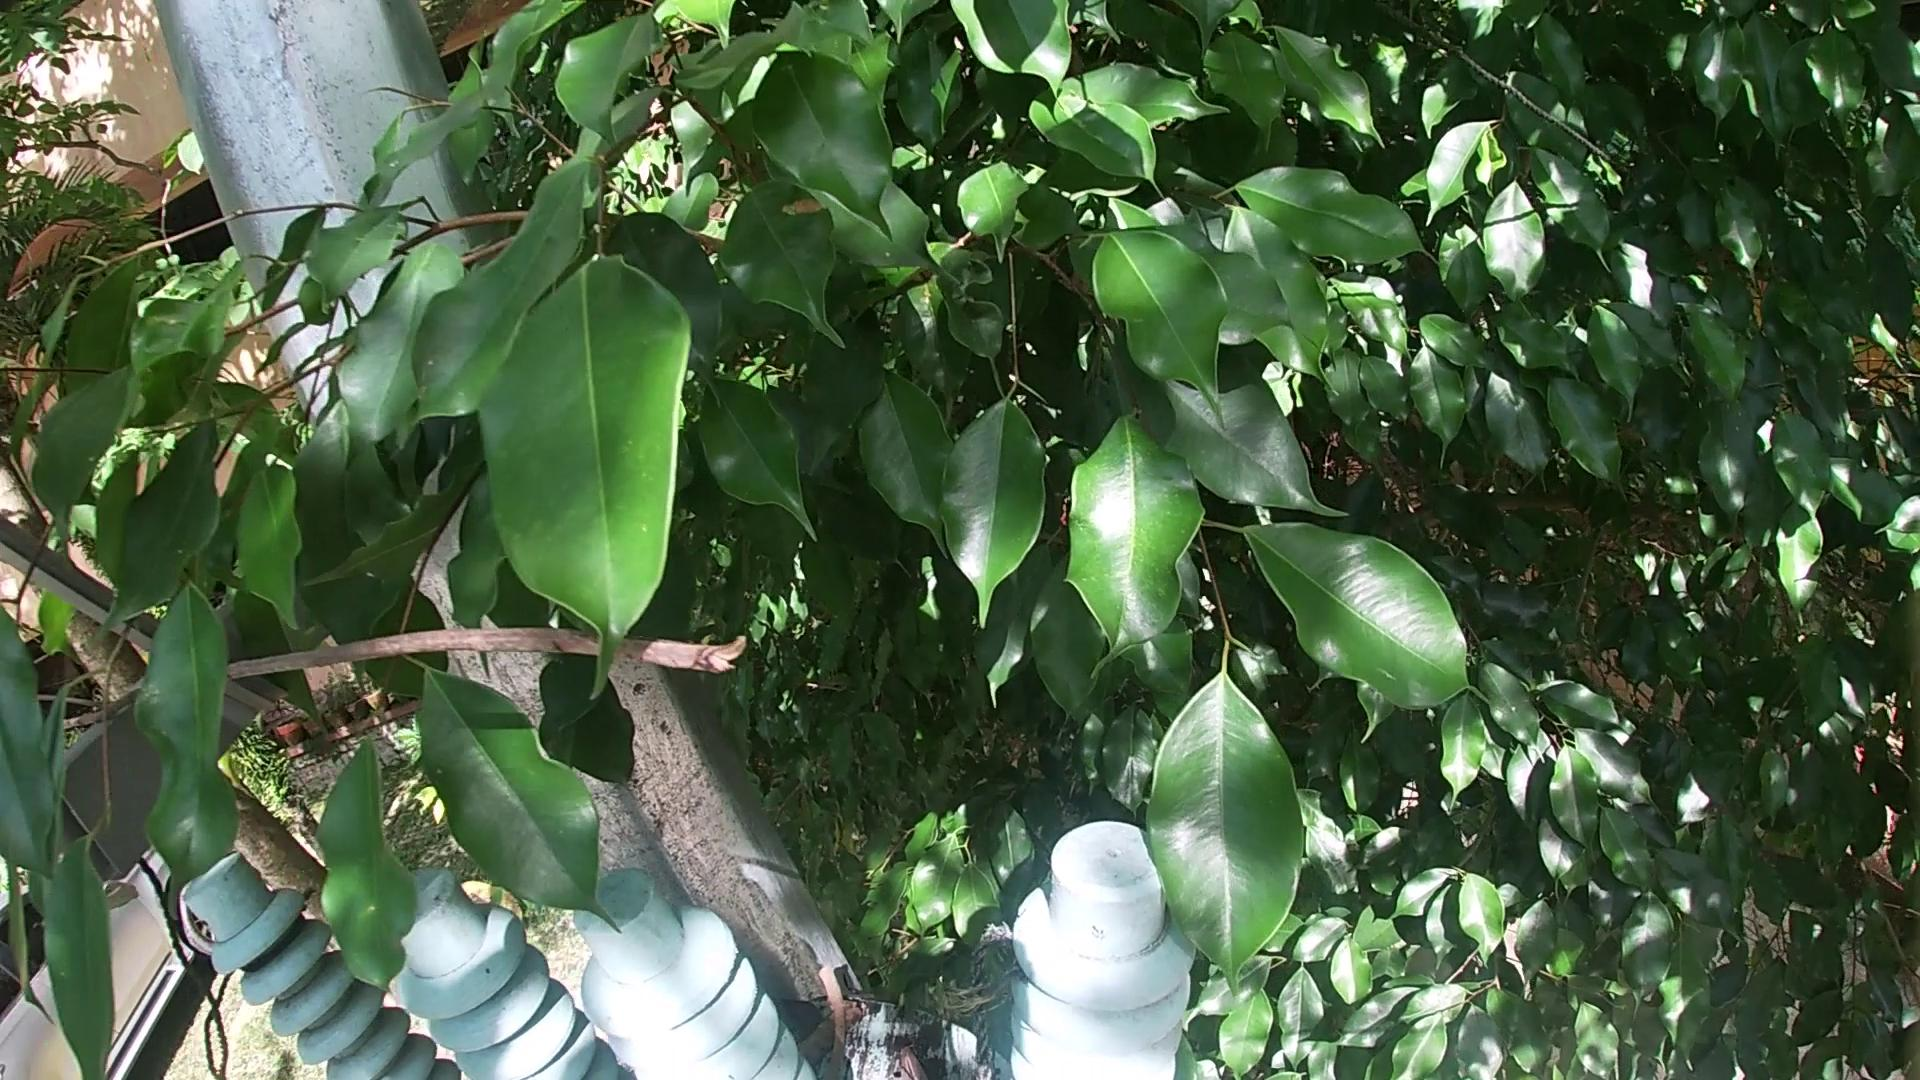tree branch: (1, 608, 774, 764), (796, 994, 866, 1058), (818, 965, 852, 1080), (907, 1036, 940, 1080)
